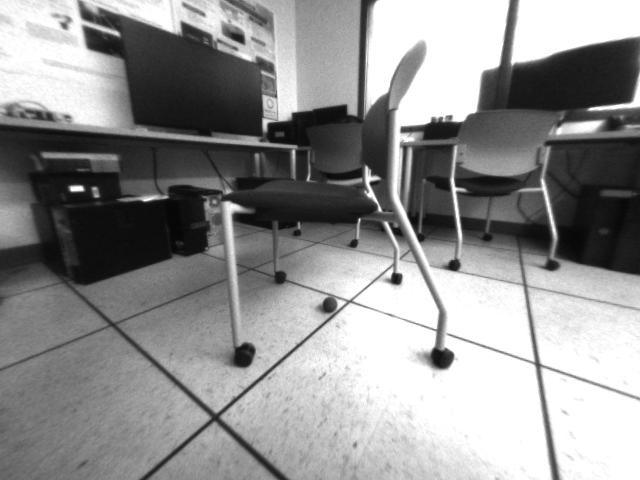dogtoy: (317, 291, 343, 317)
